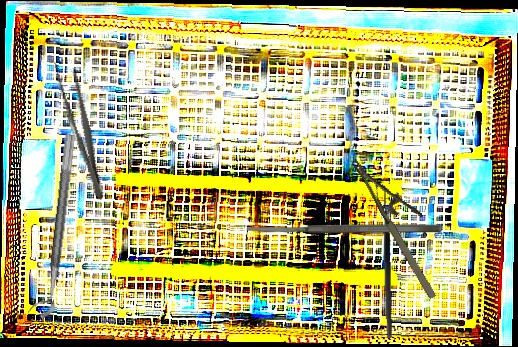Dressing Forceps: (49, 56, 113, 203)
Fixation Ring: (27, 132, 77, 320)
Hook Surgical: (373, 185, 394, 339)
Needle Holder: (350, 143, 460, 302)
Spatula Surgical: (245, 223, 442, 234)
